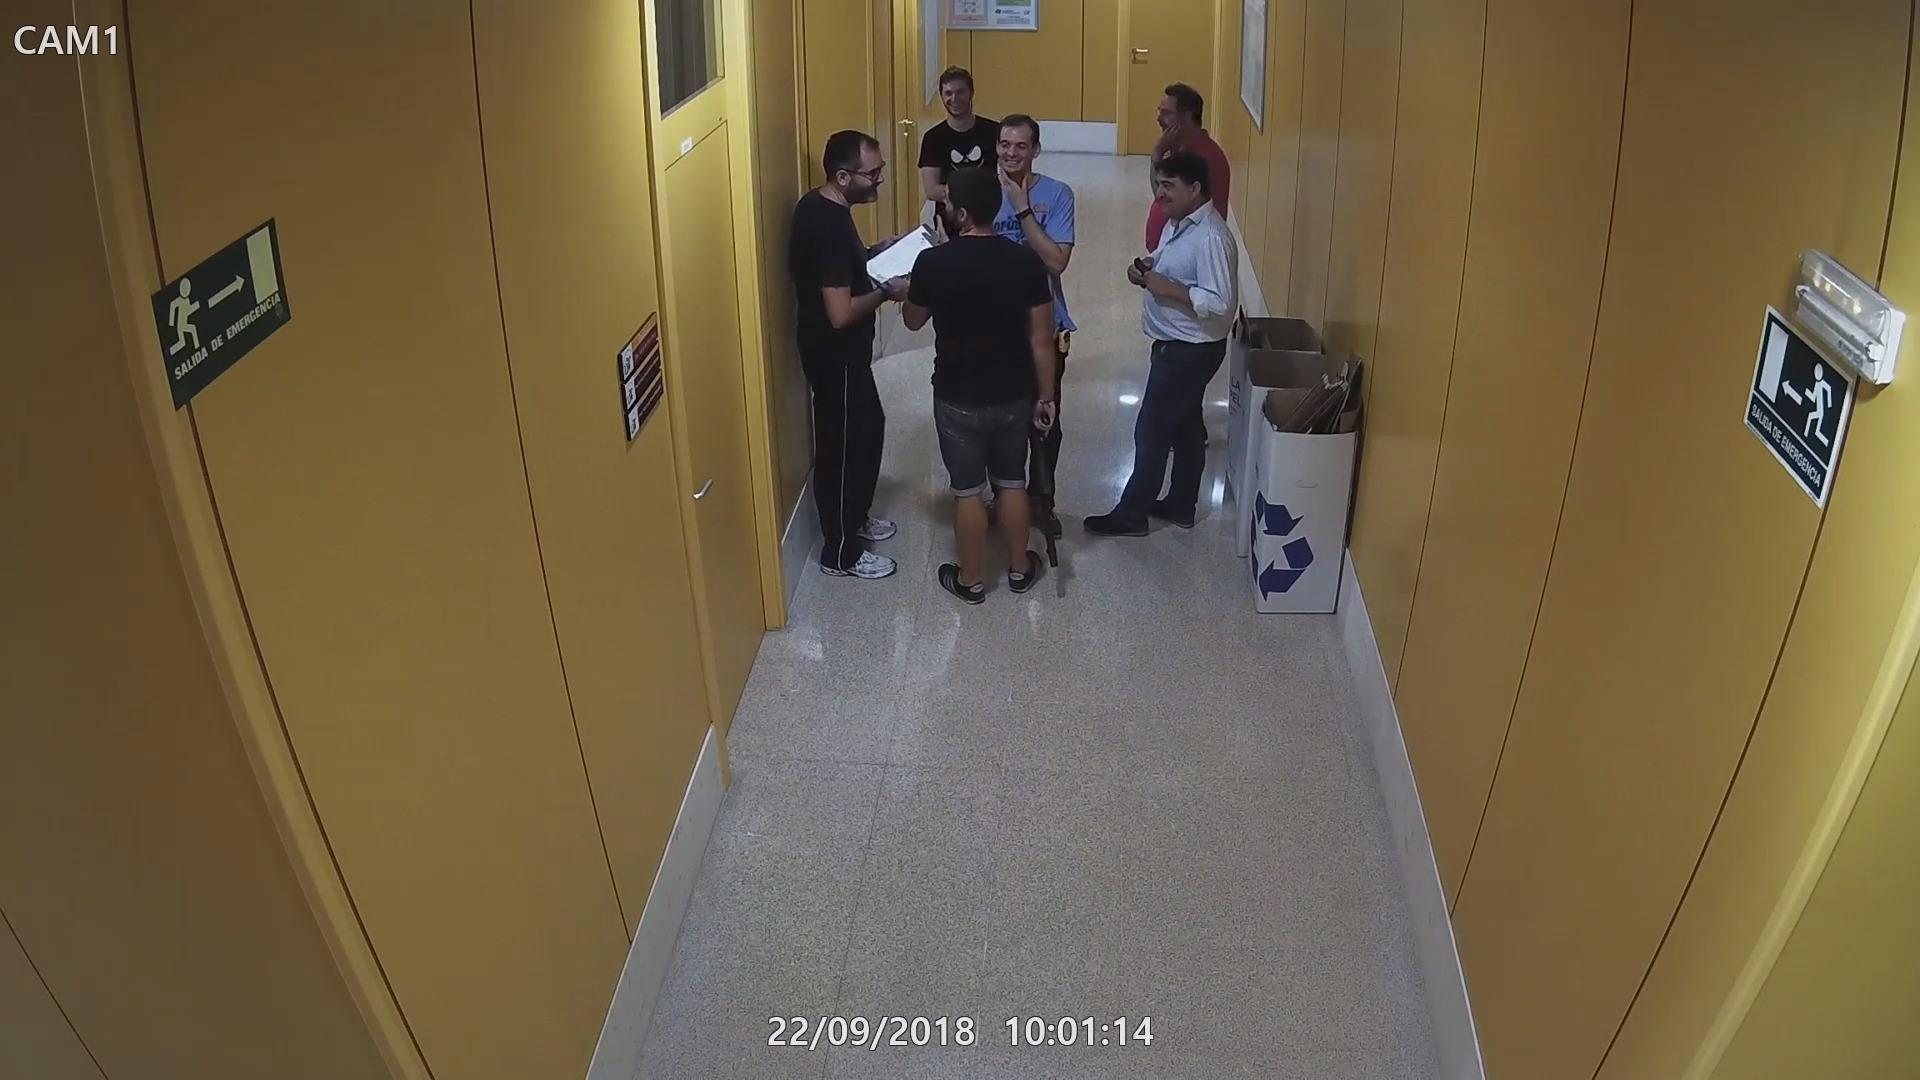Handgun: (1125, 255, 1162, 291)
